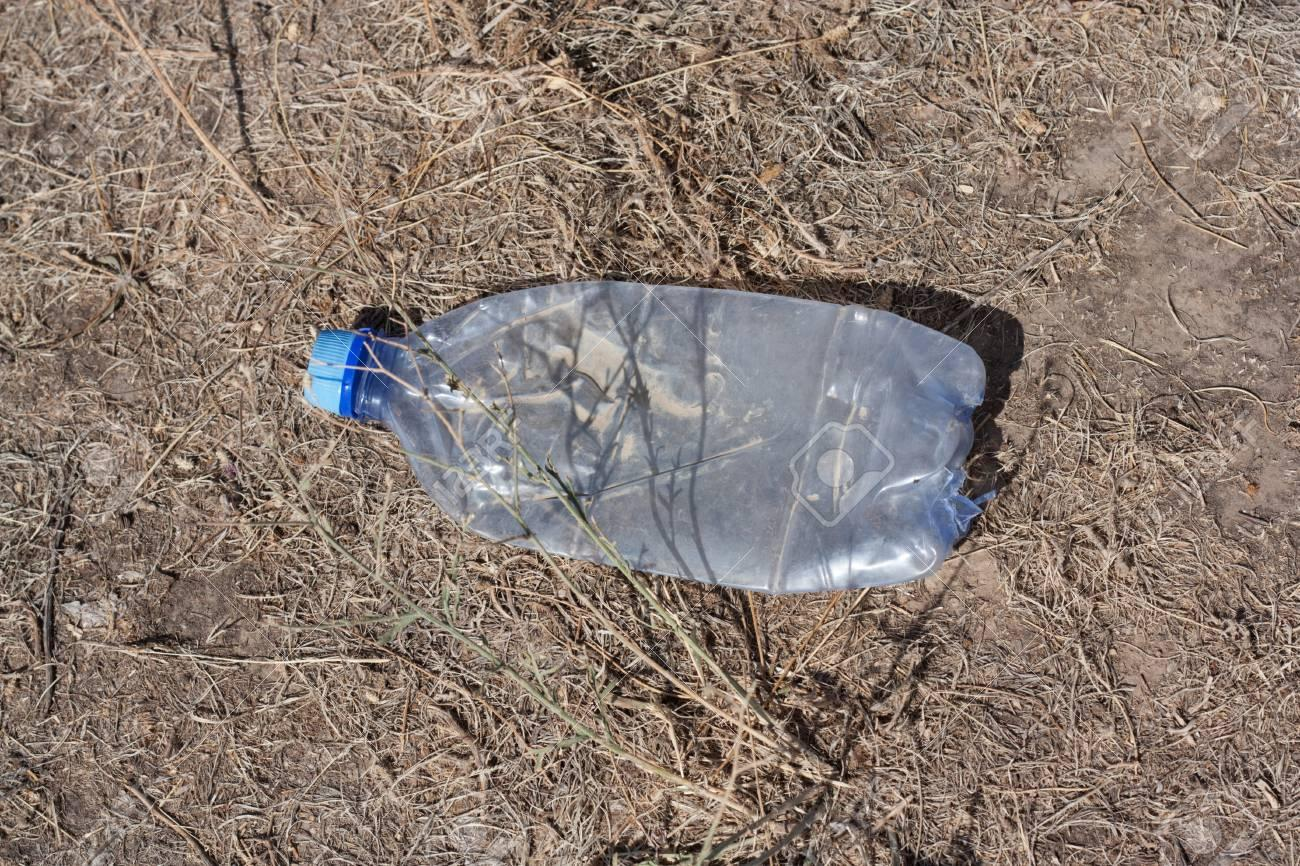bottle: (257, 272, 1012, 629)
